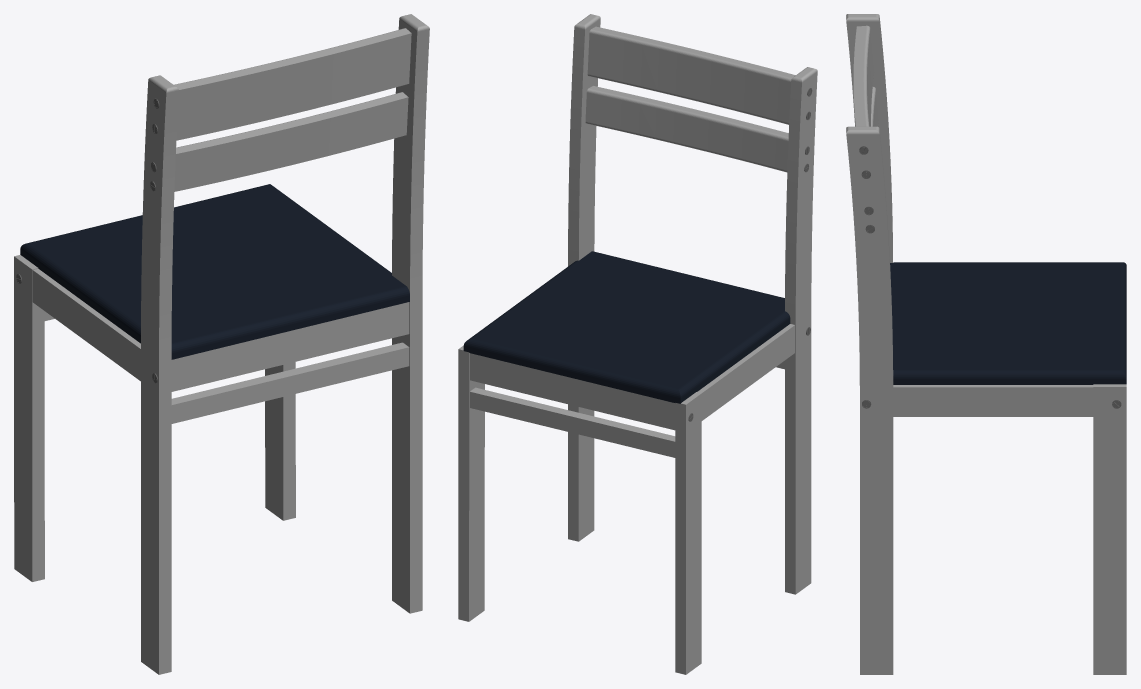
Rendered from original_shape.glb.
3 renders of one model, left to right at view 1: azimuth 30°, elevation 25°; view 2: azimuth 150°, elevation 25°; view 3: azimuth 270°, elevation 25°, orthographic. The views are drawn at different scales.
Visible parts, largest first — view 1: world; view 2: world; view 3: world.
Boxes of the visible parts, x1,y1,x2,y2 form: world: [14, 14, 429, 674]; world: [458, 14, 817, 674]; world: [846, 14, 1126, 674].
Size of the model in its own units: 0.3885 by 0.8279 by 0.387.
Materials: 1 (1 with a texture image).
